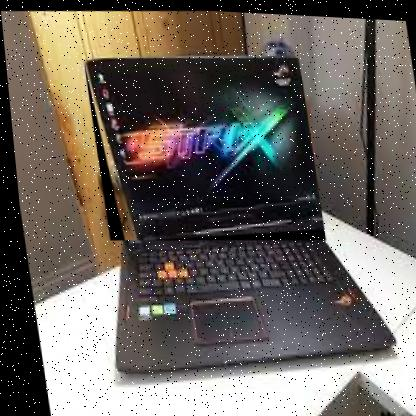Normal: (81, 46, 323, 249)
